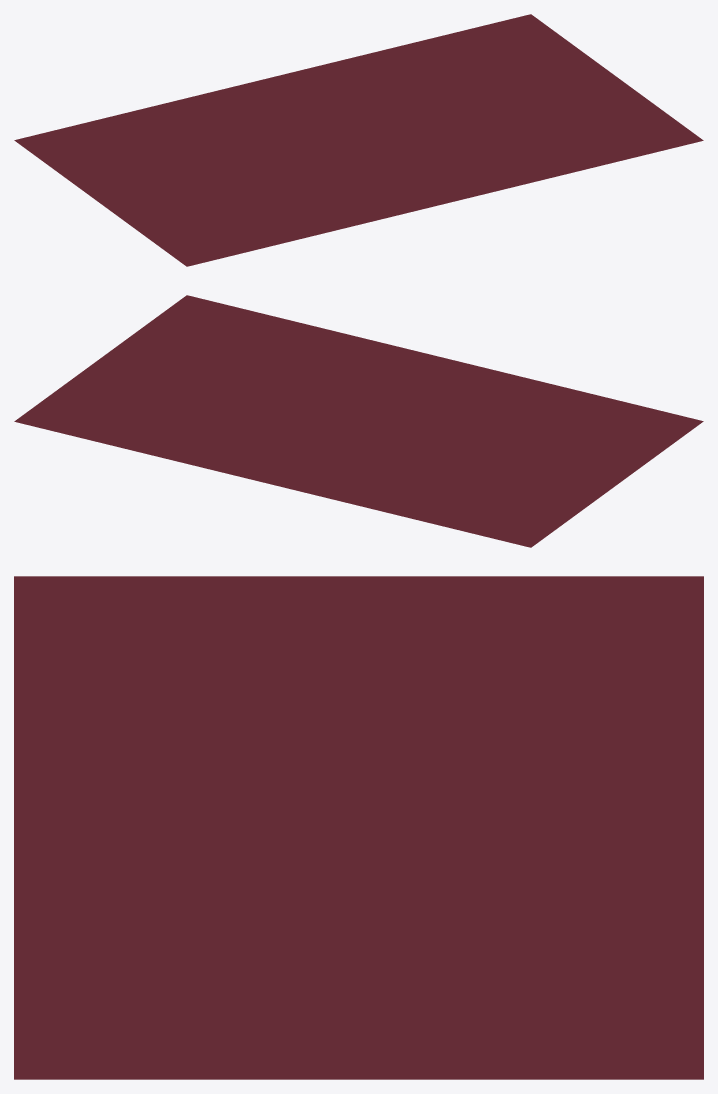
The model's file is int-floor1.glb.
3 views of the same model, one above another, from view 1: azimuth 30°, elevation 25°; view 2: azimuth 150°, elevation 25°; view 3: azimuth 270°, elevation 25° (orthographic). The views are drawn at different scales.
Visible parts, largest first — view 1: int-floor; view 2: int-floor; view 3: int-floor.
Boxes of the visible parts, left/top/right/bottom form: int-floor: left=14, top=14, right=703, bottom=266; int-floor: left=14, top=295, right=703, bottom=547; int-floor: left=14, top=576, right=703, bottom=1079.
Size of the model in its own units: 1.71 by 0 by 0.9923.
